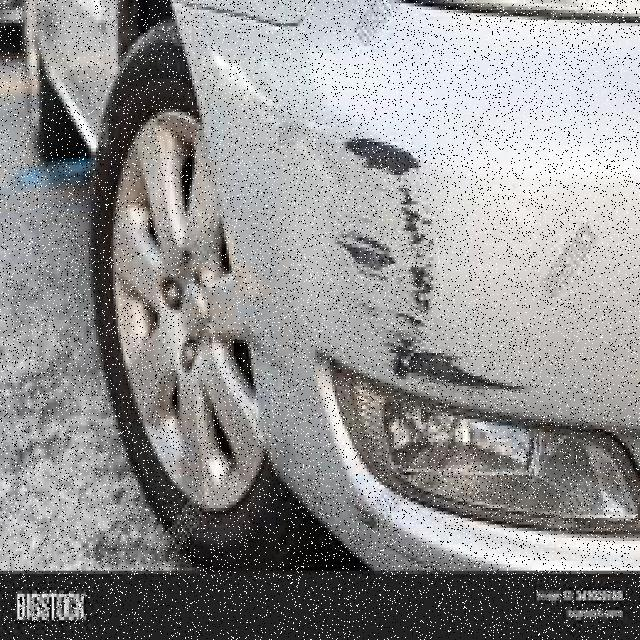front-bumper-dent: (170, 13, 638, 584)
